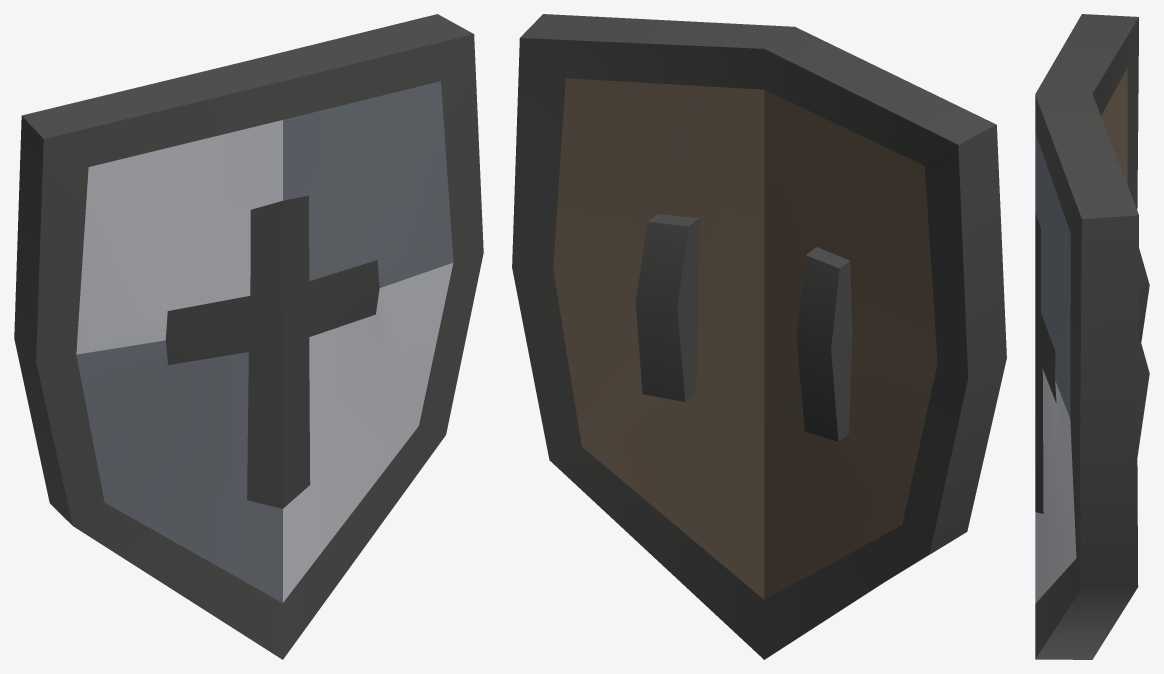
The model's file is shield.glb.
3 views of the same model, side by side, from view 1: azimuth 30°, elevation 25°; view 2: azimuth 150°, elevation 25°; view 3: azimuth 270°, elevation 25° (orthographic). The views are drawn at different scales.
Visible parts, largest first — view 1: Prop_ShieldKnight_01; view 2: Prop_ShieldKnight_01; view 3: Prop_ShieldKnight_01.
Part boxes in pixels (x1,y1,x2,y2): Prop_ShieldKnight_01: (14, 14, 483, 659); Prop_ShieldKnight_01: (512, 14, 1006, 659); Prop_ShieldKnight_01: (1035, 14, 1149, 659).
Size of the model in its own units: 0.6386 by 0.7902 by 0.1449.
Materials: 1 (1 with a texture image).
